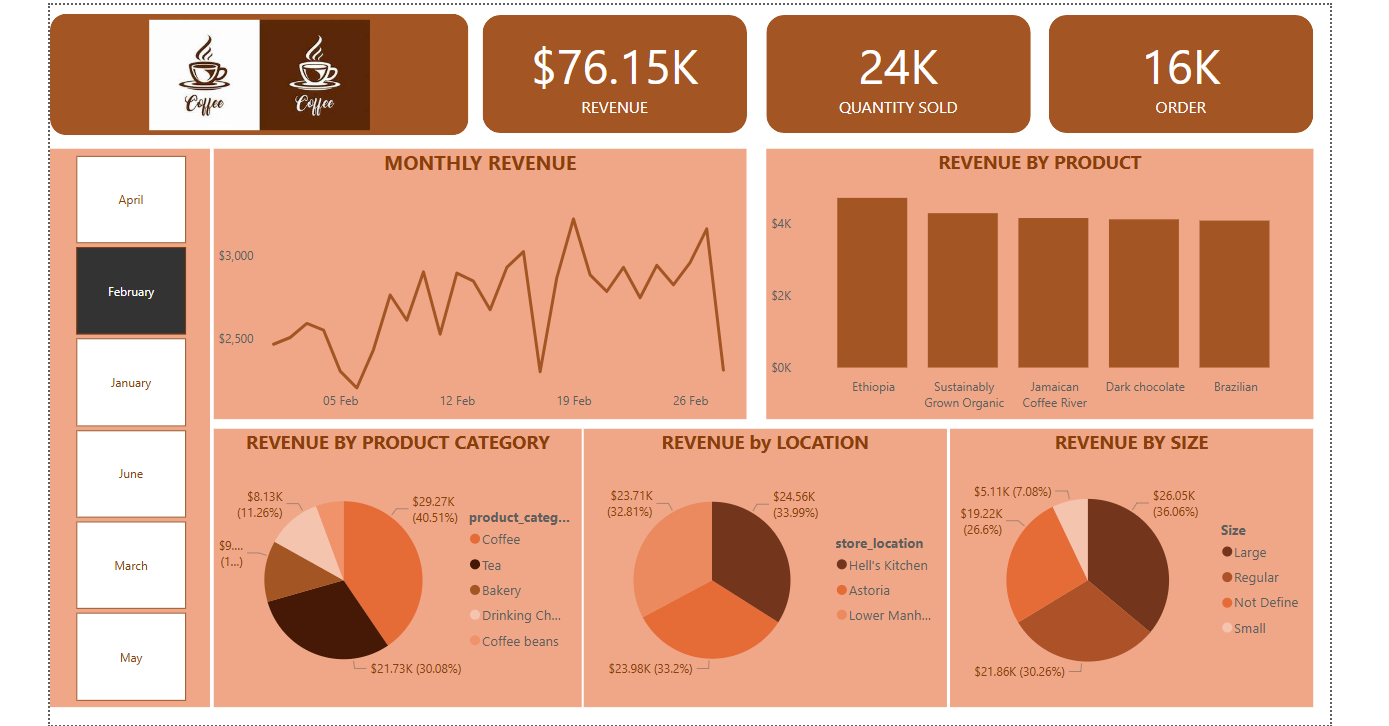

This screenshot's page, from the dashboard's own definition file:
{"tool":"powerbi","page":{"name":"Page 1","canvas":[1280,720],"ordinal":0},"visuals":[{"type":"shape","box":[432.8,9.7,264.5,118],"z":0},{"type":"shape","box":[715.8,9.7,264.5,118],"z":1000},{"type":"shape","box":[999,9.7,264.5,118],"z":2000},{"type":"card","fields":{"Values":["Measure Table.Total revenue"]},"box":[432.8,9.7,264.5,119.5],"z":3000},{"type":"card","fields":{"Values":["Measure Table.Quantity Sold"]},"box":[715.8,9.7,264.5,119.5],"z":4000},{"type":"card","fields":{"Values":["Measure Table.Total orders"]},"box":[998.8,9.7,264.5,119.5],"z":5000},{"type":"shape","box":[0,12.6,418.1,119.5],"z":6000},{"type":"shape","box":[0,8.6,418.6,121.4],"z":7000},{"type":"image","box":[0,10,418.6,120],"z":8000},{"type":"lineChart","title":"MONTHLY REVENUE","fields":{"Y":["Measure Table.Total revenue"],"Category":["Transactions.transaction_date"]},"box":[164.3,144.3,532.9,270],"z":9000},{"type":"columnChart","title":"REVENUE BY PRODUCT","fields":{"Category":["Transactions.product_detail"],"Y":["Measure Table.Total revenue"]},"box":[715.7,144.3,547.1,270],"z":10000},{"type":"pieChart","title":"REVENUE BY PRODUCT CATEGORY","fields":{"Category":["Transactions.product_category"],"Y":["Measure Table.Total revenue"]},"box":[164.3,424.3,368,278.6],"z":11000},{"type":"pieChart","title":"REVENUE by LOCATION","fields":{"Y":["Measure Table.Total revenue"],"Category":["Transactions.store_location"]},"box":[534.3,424.3,362.9,278.6],"z":12000},{"type":"slicer","fields":{"Values":["Transactions.Month Name"]},"box":[0,143.8,160,558.8],"z":13000},{"type":"pieChart","title":"REVENUE BY SIZE","fields":{"Y":["Measure Table.Total revenue"],"Category":["Transactions.Size"]},"box":[900,424.3,362.9,278.6],"z":14000}]}

Visuals, with their boxes in screenshot pixels (x1, y1, x2, y2):
shape: (478, 10, 741, 127)
shape: (760, 10, 1023, 127)
shape: (1042, 10, 1305, 127)
card - Measure Table.Total revenue: (478, 10, 741, 129)
card - Measure Table.Quantity Sold: (760, 10, 1023, 129)
card - Measure Table.Total orders: (1042, 10, 1305, 129)
shape: (47, 13, 463, 132)
shape: (47, 9, 464, 129)
image: (47, 10, 464, 129)
"MONTHLY REVENUE" lineChart: (211, 144, 741, 413)
"REVENUE BY PRODUCT" columnChart: (760, 144, 1305, 413)
"REVENUE BY PRODUCT CATEGORY" pieChart: (211, 423, 577, 700)
"REVENUE by LOCATION" pieChart: (579, 423, 940, 700)
slicer - Transactions.Month Name: (47, 143, 206, 700)
"REVENUE BY SIZE" pieChart: (943, 423, 1305, 700)
